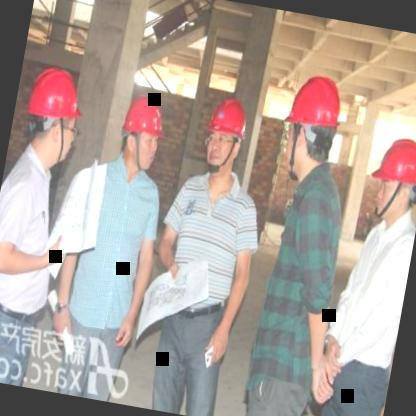helmet: (272, 65, 348, 186), (15, 61, 90, 169), (194, 91, 254, 180), (365, 130, 416, 226), (116, 94, 170, 174)
